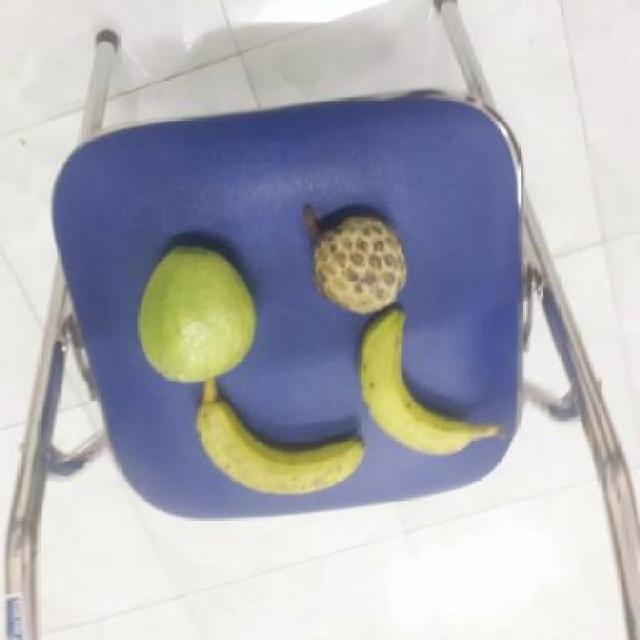banana: (186, 378, 360, 494), (348, 311, 481, 455)
guava: (132, 247, 255, 382)
sugar apple: (301, 212, 405, 312)
